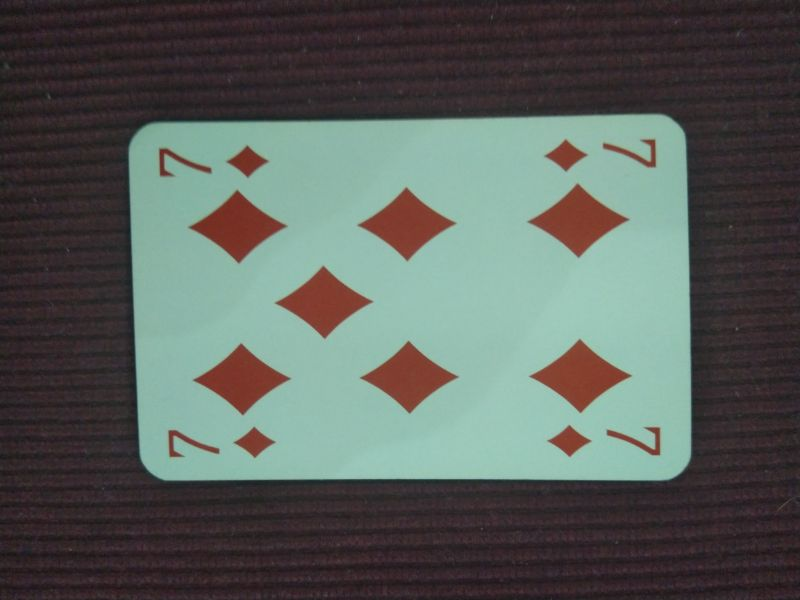7d: (149, 135, 275, 183), (541, 128, 664, 177), (542, 417, 665, 463), (162, 419, 281, 464)
